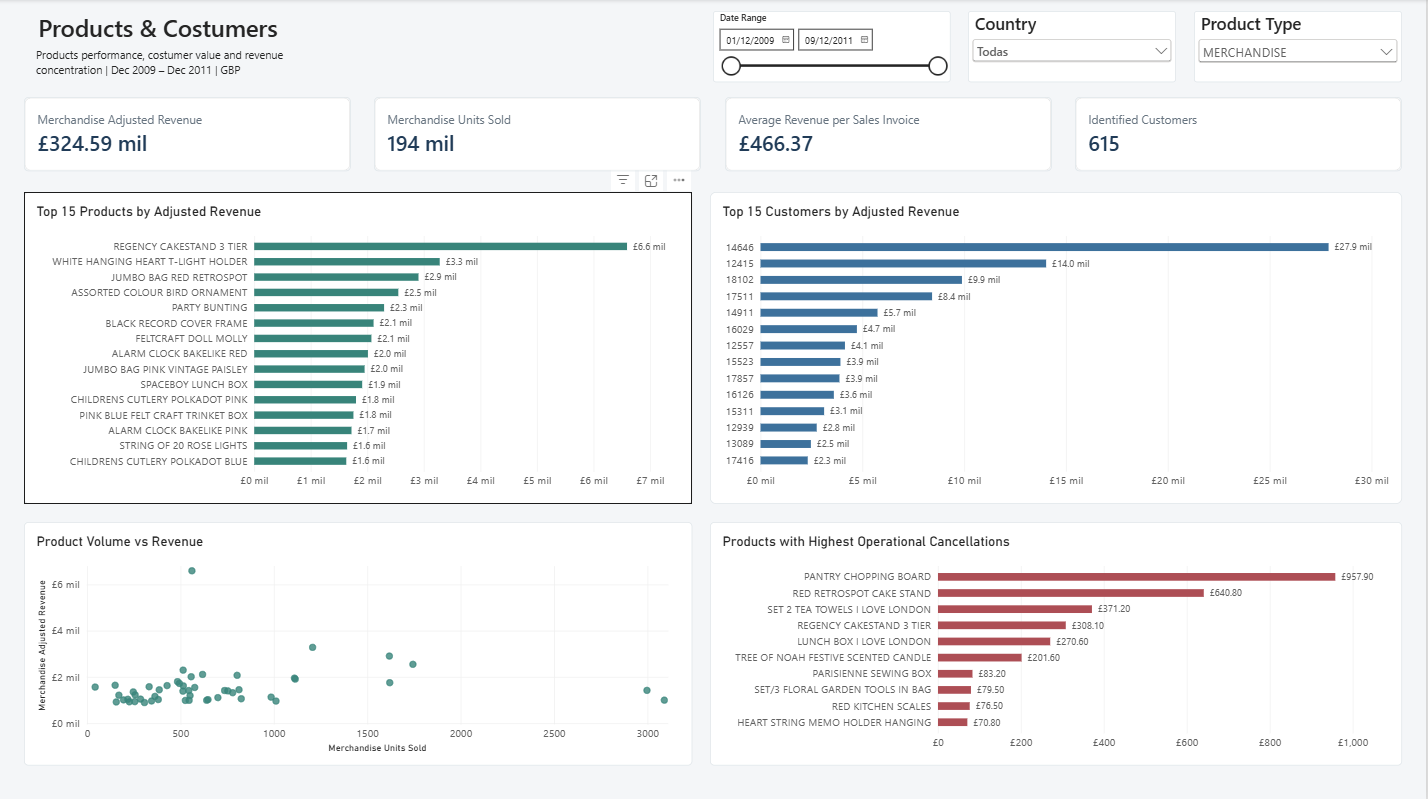

This screenshot's page, from the dashboard's own definition file:
{"tool":"powerbi","page":{"name":"Products & Costumers","canvas":[1920,1080],"ordinal":1},"visuals":[{"type":"textbox","box":[16,16,400,48],"z":0},{"type":"textbox","box":[48,64,384,48],"z":1000},{"type":"slicer","fields":{"Values":["dw DimDate.FullDate"]},"box":[960,16,320,96],"z":2000},{"type":"slicer","fields":{"Values":["dw DimCountry.CountryName"]},"box":[1304,16,280,96],"z":3000},{"type":"slicer","fields":{"Values":["dw DimProduct.ProductType"]},"box":[1608,16,280,96],"z":4000},{"type":"clusteredBarChart","title":"Top 15 Products by Adjusted Revenue","fields":{"Category":["dw DimProduct.ProductDescription"],"Y":["_Measures.Adjusted Net Revenue"]},"box":[32,260,900,420],"z":5000},{"type":"clusteredBarChart","title":"Top 15 Customers by Adjusted Revenue","fields":{"Category":["dw DimCustomer.CustomerID"],"Y":["_Measures.Identified Customer Revenue"]},"box":[956,260,932,420],"z":6000},{"type":"cardVisual","fields":{"Data":["_Measures.Merchandise Adjusted Revenue"]},"box":[32,132,440,100],"z":7000},{"type":"cardVisual","fields":{"Data":["_Measures.Merchandise Units Sold"]},"box":[504,132,440,100],"z":8000},{"type":"cardVisual","fields":{"Data":["_Measures.Average Revenue per Sales Invoice"]},"box":[976,132,440,100],"z":9000},{"type":"cardVisual","fields":{"Data":["_Measures.Identified Customers"]},"box":[1448,132,440,100],"z":10000},{"type":"scatterChart","title":"Product Volume vs Revenue","fields":{"Category":["dw DimProduct.ProductDescription"],"X":["_Measures.Merchandise Units Sold"],"Y":["_Measures.Merchandise Adjusted Revenue"]},"box":[32,704,900,328],"z":11000},{"type":"clusteredBarChart","title":"Products with Highest Operational Cancellations","fields":{"Category":["dw DimProduct.ProductDescription"],"Y":["_Measures.Operational Cancellation Amount"]},"box":[956,704,932,328],"z":12000}]}

Visuals, with their boxes in screenshot pixels (x1, y1, x2, y2), scaled from the page's 1920x1080 canvas onto the 1428x799 screenshot:
textbox: {"x1": 12, "y1": 12, "x2": 309, "y2": 47}
textbox: {"x1": 36, "y1": 47, "x2": 321, "y2": 83}
slicer - dw DimDate.FullDate: {"x1": 714, "y1": 12, "x2": 952, "y2": 83}
slicer - dw DimCountry.CountryName: {"x1": 970, "y1": 12, "x2": 1178, "y2": 83}
slicer - dw DimProduct.ProductType: {"x1": 1196, "y1": 12, "x2": 1404, "y2": 83}
"Top 15 Products by Adjusted Revenue" clusteredBarChart: {"x1": 24, "y1": 192, "x2": 693, "y2": 503}
"Top 15 Customers by Adjusted Revenue" clusteredBarChart: {"x1": 711, "y1": 192, "x2": 1404, "y2": 503}
cardVisual - _Measures.Merchandise Adjusted Revenue: {"x1": 24, "y1": 98, "x2": 351, "y2": 172}
cardVisual - _Measures.Merchandise Units Sold: {"x1": 375, "y1": 98, "x2": 702, "y2": 172}
cardVisual - _Measures.Average Revenue per Sales Invoice: {"x1": 726, "y1": 98, "x2": 1053, "y2": 172}
cardVisual - _Measures.Identified Customers: {"x1": 1077, "y1": 98, "x2": 1404, "y2": 172}
"Product Volume vs Revenue" scatterChart: {"x1": 24, "y1": 521, "x2": 693, "y2": 763}
"Products with Highest Operational Cancellations" clusteredBarChart: {"x1": 711, "y1": 521, "x2": 1404, "y2": 763}
